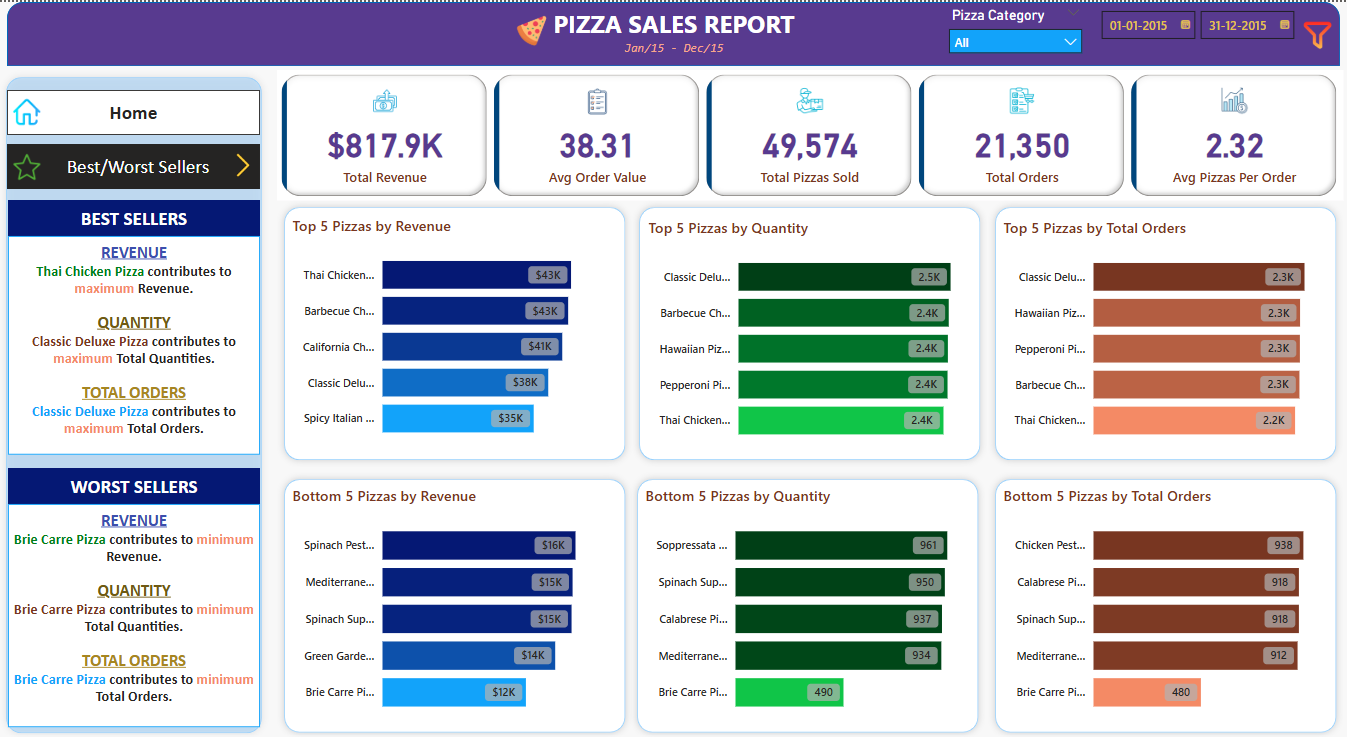

The page's visual inventory and layout, read from the dashboard file:
{"tool":"powerbi","page":{"name":"Best/Worst Sellers","canvas":[1498,820],"ordinal":1},"visuals":[{"type":"shape","box":[0,75,300,745],"z":0},{"type":"textbox","box":[10,220,280,40],"z":1000},{"type":"cardVisual","fields":{"Data":["pizza_sales.Total Revenue","pizza_sales.Avg Order Value","pizza_sales.Total Pizzas Sold","pizza_sales.Total Orders","pizza_sales.Avg Pizzas Per Order"]},"box":[308.8,75,1185,145],"z":2000},{"type":"shape","box":[8.8,0,1481,71.2],"z":3000},{"type":"textbox","box":[601.2,0,297.5,71.2],"z":4000},{"type":"image","box":[558.8,10,65,43.8],"z":5000},{"type":"shape","box":[308.8,220,395,297],"z":6000},{"type":"textbox","box":[10,260,280,242.5],"z":7000},{"type":"textbox","box":[10,517.5,280,40],"z":8000},{"type":"textbox","box":[10,557.5,280,247.5],"z":9000},{"type":"slicer","title":"Pizza Category","fields":{"Values":["pizza_sales.pizza_category"]},"box":[1045,0,167.5,71.2],"z":10000},{"type":"slicer","title":"Pizza Category","fields":{"Values":["pizza_sales.order_date"]},"box":[1212.5,0,237.5,75],"z":11000},{"type":"image","box":[1435,10,58.8,52.5],"z":12000},{"type":"shape","box":[703.8,220,395,297],"z":13000},{"type":"shape","box":[1098.8,220,395,297],"z":14000},{"type":"shape","box":[308.8,522.5,395,297.5],"z":15000},{"type":"shape","box":[701.2,522.5,395,297.5],"z":16000},{"type":"shape","box":[1098.8,522.5,395,297.5],"z":17000},{"type":"barChart","title":"Top 5 Pizzas by Revenue","fields":{"Category":["pizza_sales.pizza_name"],"Y":["pizza_sales.Total Revenue"]},"box":[321.2,237.5,370,262.5],"z":18000},{"type":"barChart","title":"Top 5 Pizzas by Quantity","fields":{"Category":["pizza_sales.pizza_name"],"Y":["pizza_sales.Total Pizzas Sold"]},"box":[716.2,240,370,262.5],"z":19000},{"type":"barChart","title":"Top 5 Pizzas by Total Orders","fields":{"Category":["pizza_sales.pizza_name"],"Y":["pizza_sales.Total Orders"]},"box":[1111.2,240,370,262.5],"z":20000},{"type":"barChart","title":"Bottom 5 Pizzas by Revenue","fields":{"Category":["pizza_sales.pizza_name"],"Y":["pizza_sales.Total Revenue"]},"box":[321.2,537.5,370,267.5],"z":21000},{"type":"barChart","title":"Bottom 5 Pizzas by Quantity","fields":{"Category":["pizza_sales.pizza_name"],"Y":["pizza_sales.Total Pizzas Sold"]},"box":[713.8,537.5,370,267.5],"z":22000},{"type":"barChart","title":"Bottom 5 Pizzas by Total Orders","fields":{"Category":["pizza_sales.pizza_name"],"Y":["pizza_sales.Total Orders"]},"box":[1111.2,537.5,370,267.5],"z":23000},{"type":"pageNavigator","box":[8.8,97.5,281.2,50],"z":24000},{"type":"pageNavigator","box":[8.8,157.5,281.2,50],"z":25000},{"type":"image","box":[8.8,102.5,43.8,40],"z":26000},{"type":"image","box":[10,163.8,42.5,40],"z":27000},{"type":"image","box":[252.5,163.8,37.5,36.2],"z":28001}]}

Visuals, with their boxes in screenshot pixels (x1, y1, x2, y2), scaled from the page's 1498x820 canvas onto the 1347x737 screenshot:
shape: select_region(0, 67, 270, 736)
textbox: select_region(9, 198, 261, 234)
cardVisual - pizza_sales.Total Revenue x pizza_sales.Avg Order Value: select_region(278, 67, 1343, 198)
shape: select_region(8, 0, 1340, 64)
textbox: select_region(541, 0, 808, 64)
image: select_region(502, 9, 561, 48)
shape: select_region(278, 198, 633, 465)
textbox: select_region(9, 234, 261, 452)
textbox: select_region(9, 465, 261, 501)
textbox: select_region(9, 501, 261, 724)
"Pizza Category" slicer: select_region(940, 0, 1090, 64)
"Pizza Category" slicer: select_region(1090, 0, 1304, 67)
image: select_region(1290, 9, 1343, 56)
shape: select_region(633, 198, 988, 465)
shape: select_region(988, 198, 1343, 465)
shape: select_region(278, 470, 633, 736)
shape: select_region(631, 470, 986, 736)
shape: select_region(988, 470, 1343, 736)
"Top 5 Pizzas by Revenue" barChart: select_region(289, 213, 622, 449)
"Top 5 Pizzas by Quantity" barChart: select_region(644, 216, 977, 452)
"Top 5 Pizzas by Total Orders" barChart: select_region(999, 216, 1332, 452)
"Bottom 5 Pizzas by Revenue" barChart: select_region(289, 483, 622, 724)
"Bottom 5 Pizzas by Quantity" barChart: select_region(642, 483, 975, 724)
"Bottom 5 Pizzas by Total Orders" barChart: select_region(999, 483, 1332, 724)
pageNavigator: select_region(8, 88, 261, 133)
pageNavigator: select_region(8, 142, 261, 186)
image: select_region(8, 92, 47, 128)
image: select_region(9, 147, 47, 183)
image: select_region(227, 147, 261, 180)
